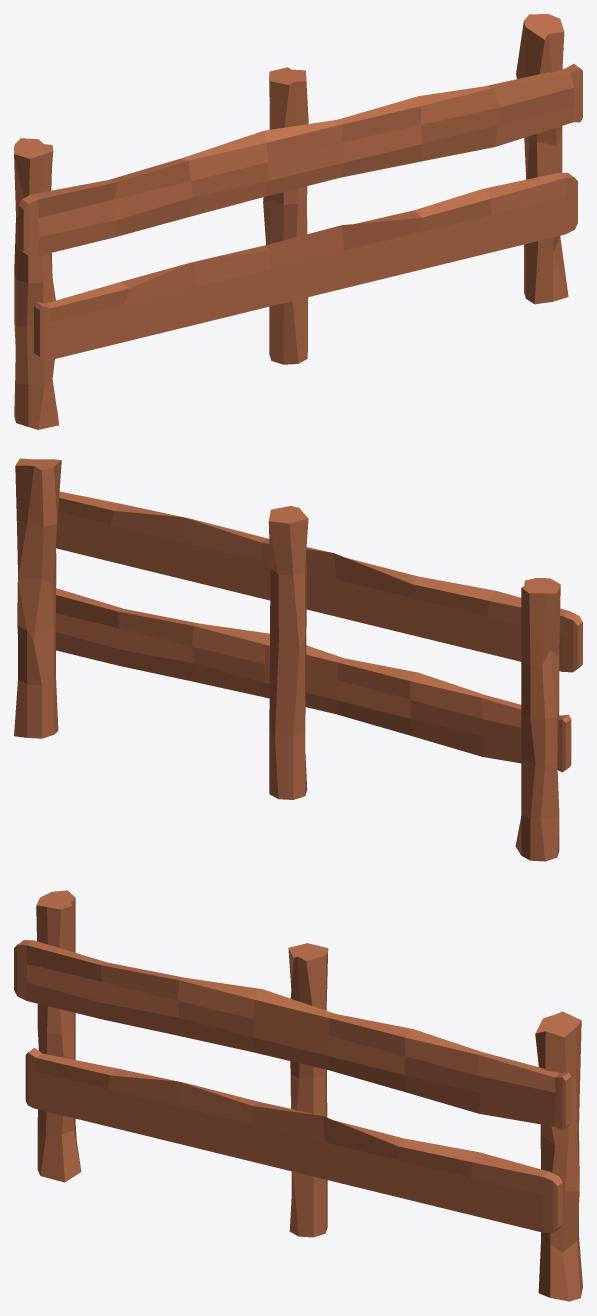
Rendered from Cerca Base 5.fbx.
3 renders of one model, top to bottom at view 1: azimuth 30°, elevation 25°; view 2: azimuth 150°, elevation 25°; view 3: azimuth 330°, elevation 25°, orthographic.
Parts seen in each view (by area): view 1: Cerca; view 2: Cerca; view 3: Cerca.
Part boxes in pixels (x1,y1,x2,y2): Cerca: (14, 14, 582, 429); Cerca: (14, 458, 582, 861); Cerca: (14, 890, 582, 1301).
Size of the model in its own units: 990 by 484 by 110.
